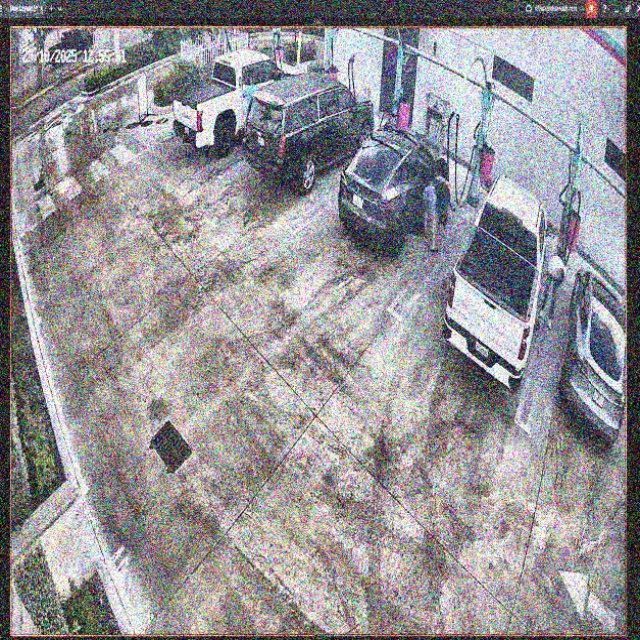Car: (443, 177, 556, 389), (244, 73, 375, 194), (340, 128, 447, 253), (173, 49, 300, 151)
